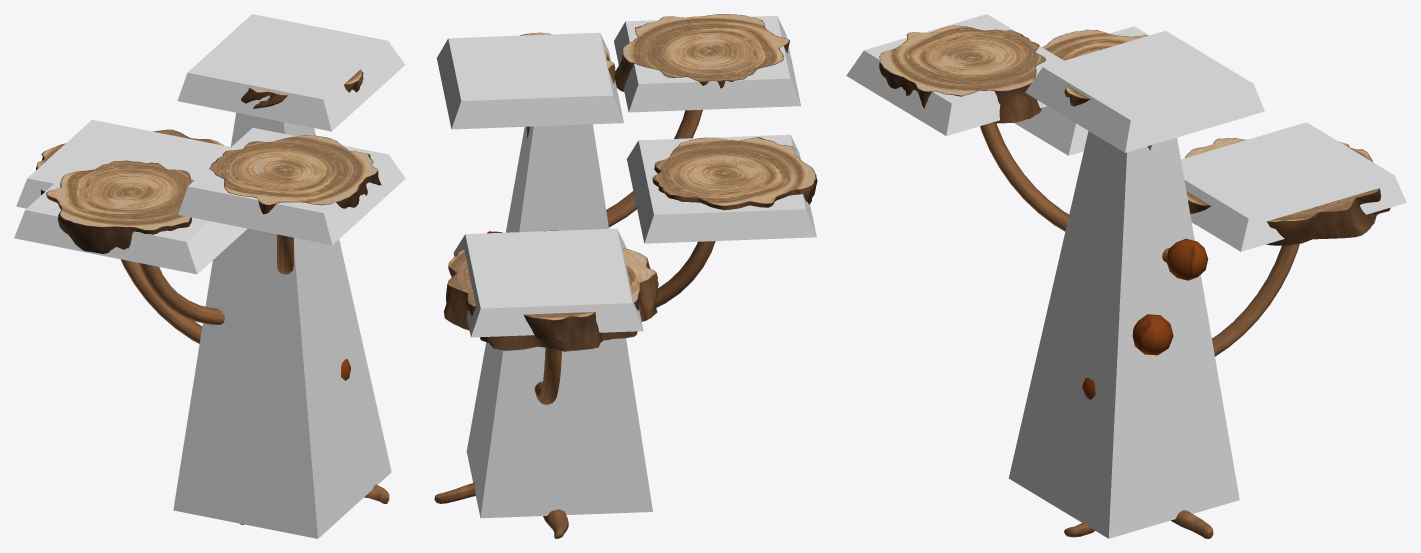
Rendered from Dojo_Display_Tree.gltf.
The picture shows the model from 3 angles, left to right: view 1: azimuth 30°, elevation 25°; view 2: azimuth 150°, elevation 25°; view 3: azimuth 270°, elevation 25°; orthographic projection.
Parts seen in each view (by area): view 1: natural_display_tree_02_mesh_Box_mcol, natural_display_tree_02_mesh; view 2: natural_display_tree_02_mesh_Box_mcol, natural_display_tree_02_mesh; view 3: natural_display_tree_02_mesh_Box_mcol, natural_display_tree_02_mesh.
Part boxes in pixels (box(x1,y1,x2,y2)): natural_display_tree_02_mesh_Box_mcol: box(14, 14, 405, 538); natural_display_tree_02_mesh: box(36, 69, 389, 524); natural_display_tree_02_mesh_Box_mcol: box(436, 15, 816, 518); natural_display_tree_02_mesh: box(434, 14, 817, 538); natural_display_tree_02_mesh_Box_mcol: box(846, 14, 1406, 538); natural_display_tree_02_mesh: box(879, 25, 1390, 538).
Size of the model in its own units: 1.51 by 1.62 by 1.9.
1 material, 1 textured.
